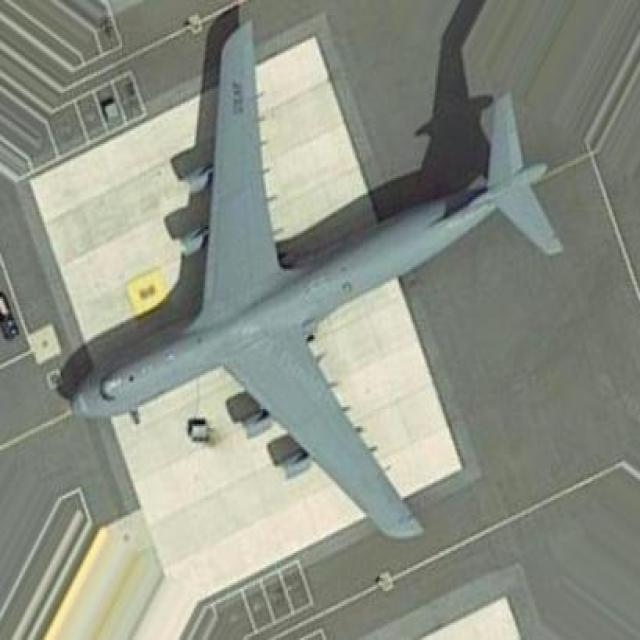C-5_TopDown: (48, 0, 563, 543)
